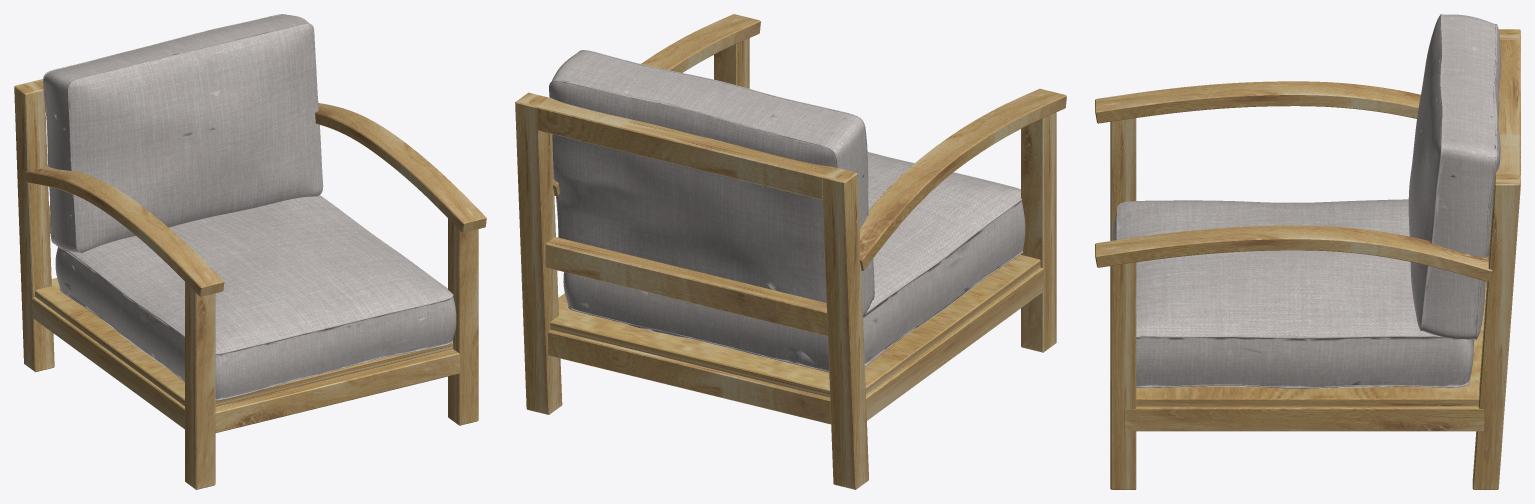
File: chair.glb
3 views of the same model, side by side, from view 1: azimuth 30°, elevation 25°; view 2: azimuth 150°, elevation 25°; view 3: azimuth 270°, elevation 25° (orthographic). The views are drawn at different scales.
Parts seen in each view (by area): view 1: 0a4dca66c0ab33f774d1edfdf819537baf2a6bf4 > > root > (×2); view 2: 0a4dca66c0ab33f774d1edfdf819537baf2a6bf4 > > root > (×2); view 3: 0a4dca66c0ab33f774d1edfdf819537baf2a6bf4 > > root > (×2).
Boxes of the visible parts, <box> form: 0a4dca66c0ab33f774d1edfdf819537baf2a6bf4 > > root > (×2): <box>14,14,486,489</box>; 0a4dca66c0ab33f774d1edfdf819537baf2a6bf4 > > root > (×2): <box>515,14,1066,489</box>; 0a4dca66c0ab33f774d1edfdf819537baf2a6bf4 > > root > (×2): <box>1095,14,1520,489</box>.
Size of the model in its own units: 0.7155 by 0.7101 by 0.8177.
Materials: 2 (2 with a texture image).
